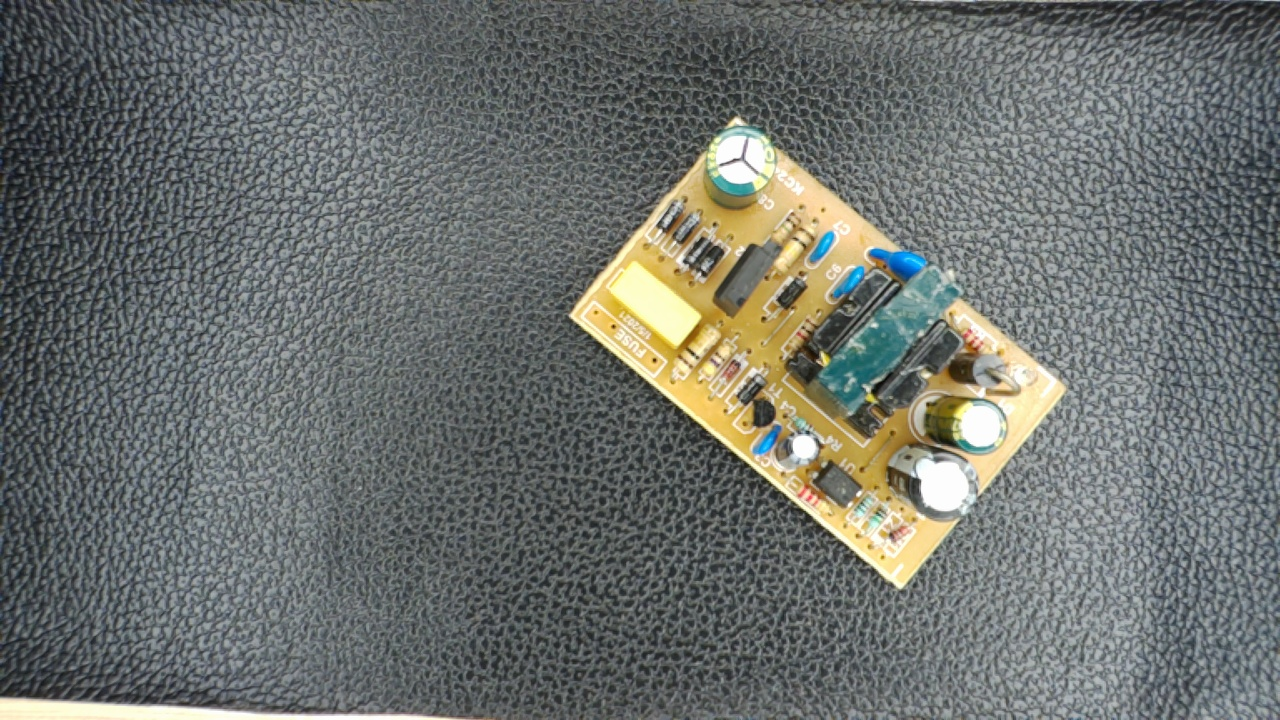hv_capacitor: (702, 126, 777, 209)
mov: (866, 245, 930, 284)
optocoupler: (809, 459, 867, 510)
